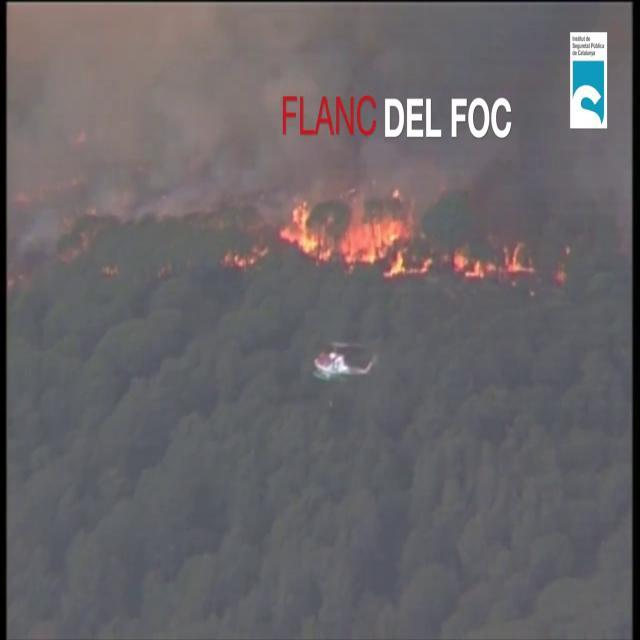Fire: (278, 190, 414, 274), (446, 236, 538, 286)
Smoke: (11, 2, 607, 242)
